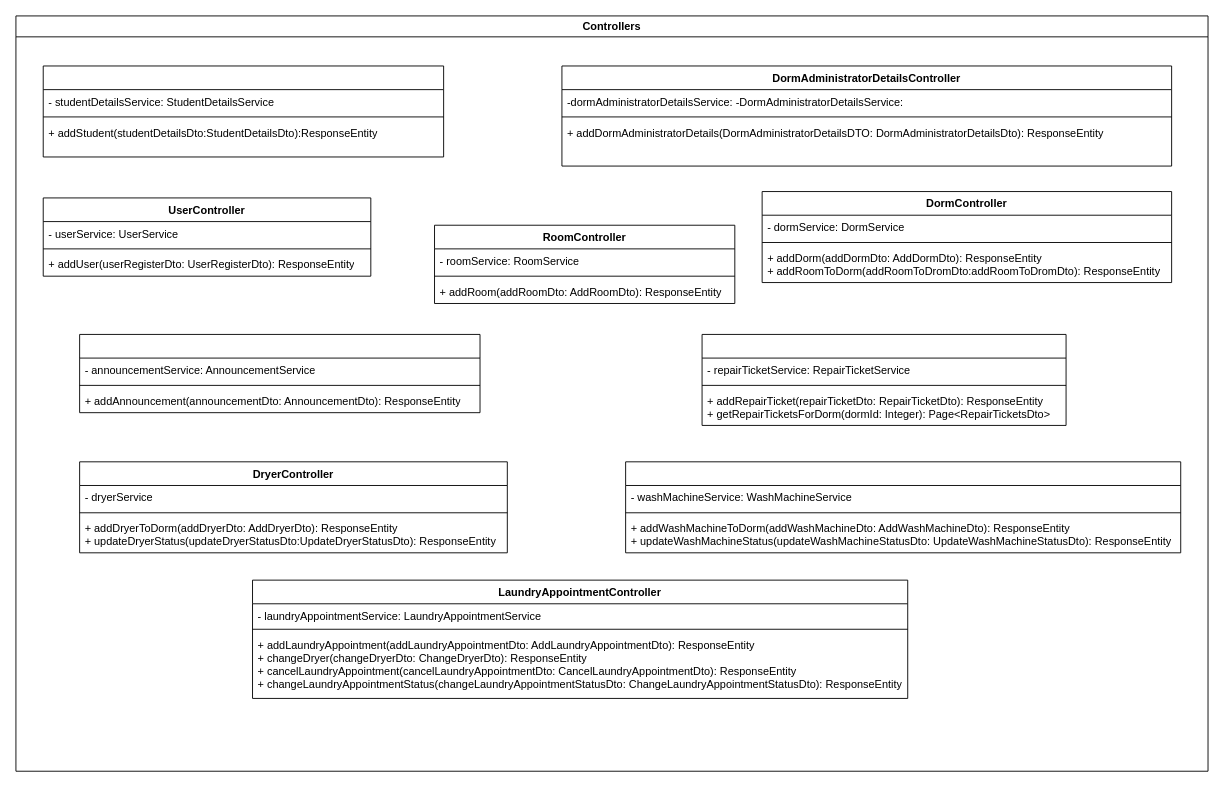
The diagram is 1224 pixels wide and 787 high, and some of its shapes have lost their labels. The box of each missing label's shape, as (x1, y1, x2, y2) in pixels:
AnnouncementController: (79, 334, 480, 413)
RepairTicketController: (701, 334, 1066, 425)
StudentDetailsController: (42, 65, 444, 157)
WashMachineController: (625, 461, 1181, 553)
